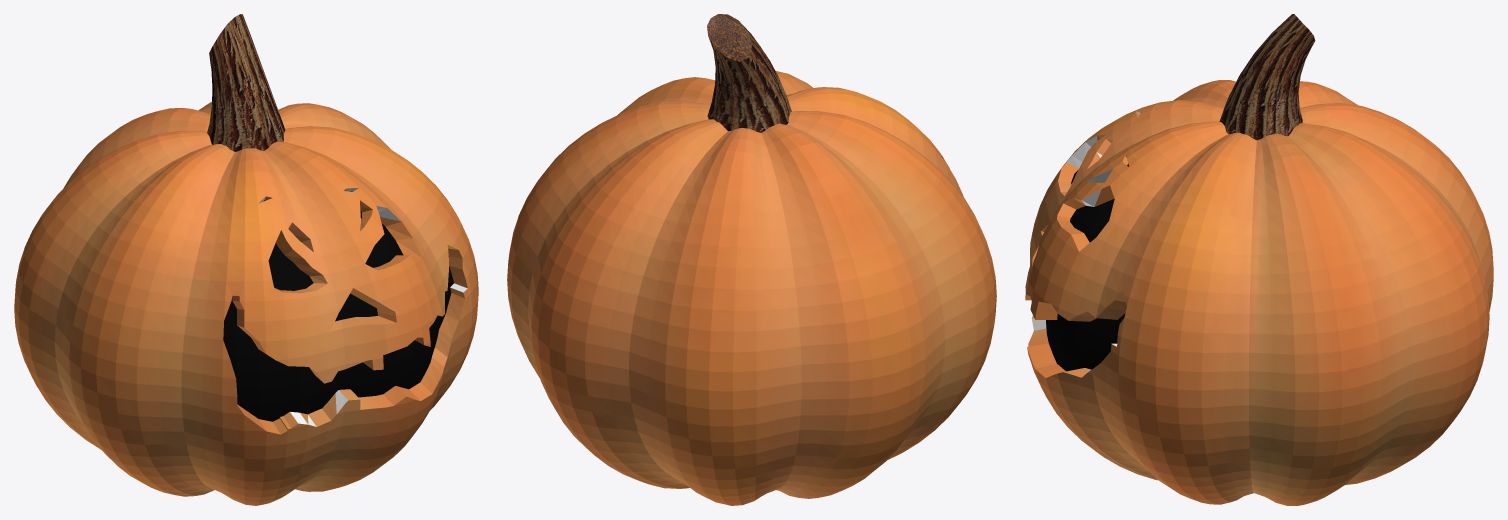
Rendered from pumpkin.dae.
The picture shows the model from 3 angles, left to right: view 1: azimuth 30°, elevation 25°; view 2: azimuth 150°, elevation 25°; view 3: azimuth 270°, elevation 25°; orthographic projection. The views are drawn at different scales.
Visible parts, largest first — view 1: pumpkin; view 2: pumpkin; view 3: pumpkin.
Boxes of the visible parts, <box> form: pumpkin: <box>14,14,478,505</box>; pumpkin: <box>507,14,996,505</box>; pumpkin: <box>1025,14,1493,505</box>.
Bounding box in the file's own units: 36.51 × 36.39 × 39.27.
